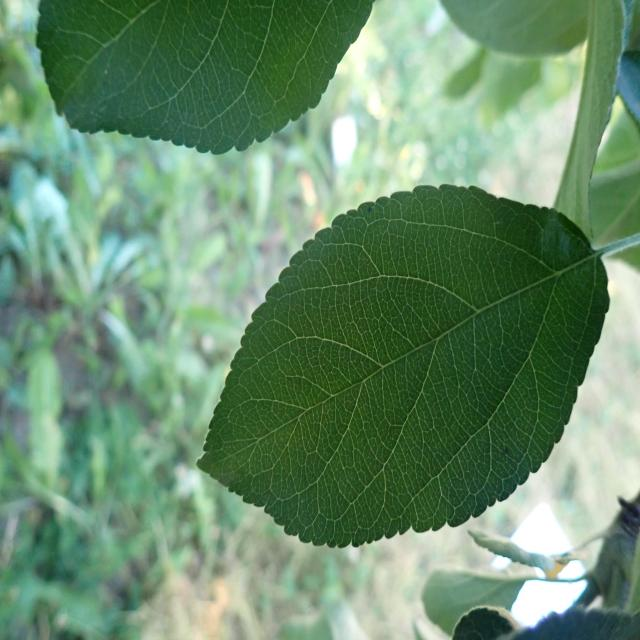healthy: (196, 183, 611, 550), (34, 0, 376, 156)
